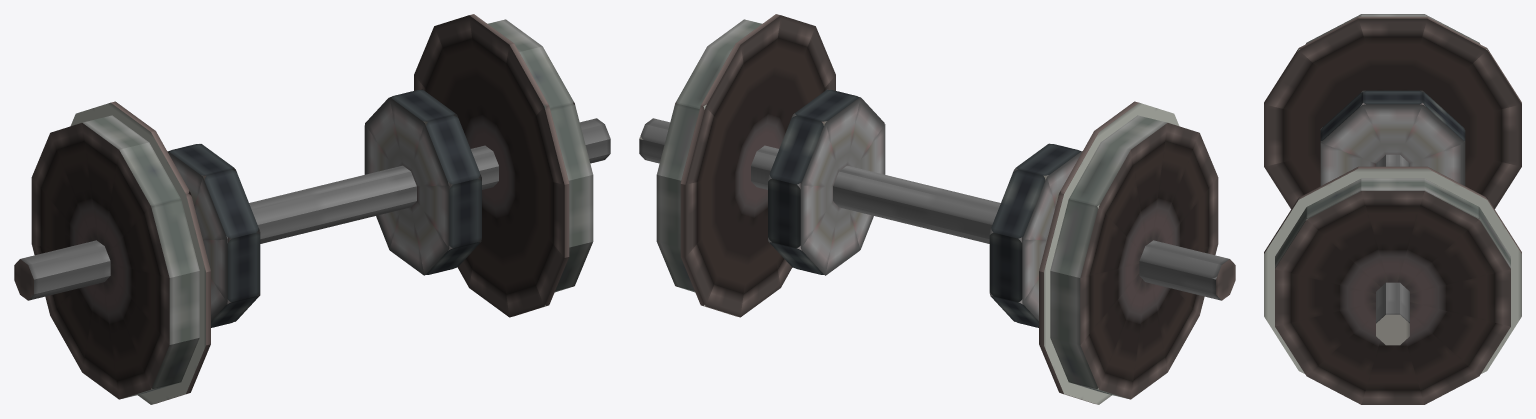
The model's file is pk209p_wheel2.obj.
3 renders of one model, left to right at view 1: azimuth 30°, elevation 25°; view 2: azimuth 150°, elevation 25°; view 3: azimuth 270°, elevation 25°, orthographic. The views are drawn at different scales.
Parts seen in each view (by area): view 1: cylinder; view 2: cylinder; view 3: cylinder.
Boxes of the visible parts, bbox=[...] form: cylinder: bbox=[14, 14, 610, 404]; cylinder: bbox=[639, 14, 1235, 404]; cylinder: bbox=[1264, 14, 1521, 404].
Size of the model in its own units: 2.21 by 1 by 1.
